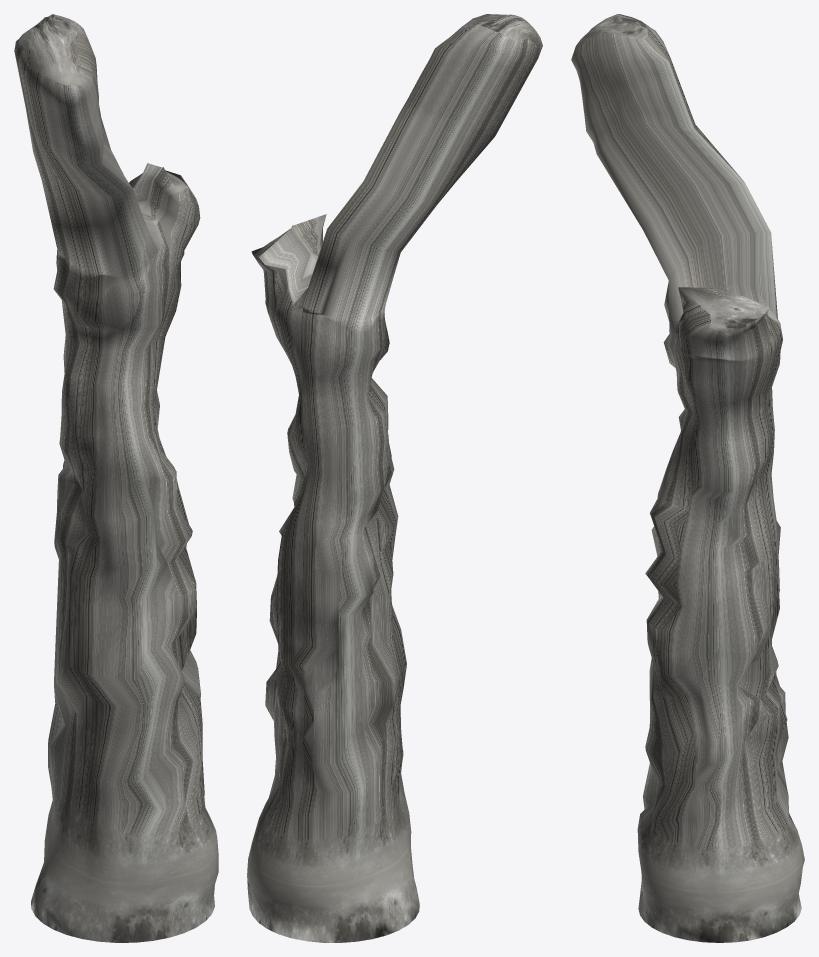
File: Gear_Tree_Trunk.glb
3 views of the same model, side by side, from view 1: azimuth 30°, elevation 25°; view 2: azimuth 150°, elevation 25°; view 3: azimuth 270°, elevation 25° (orthographic). The views are drawn at different scales.
Visible parts, largest first — view 1: Cylinder; view 2: Cylinder; view 3: Cylinder.
Part boxes in pixels (x1,y1,x2,y2): Cylinder: [14, 14, 218, 942]; Cylinder: [247, 14, 542, 942]; Cylinder: [571, 14, 804, 942].
Size of the model in its own units: 4.81 by 18.47 by 4.68.
1 material, 1 textured.
